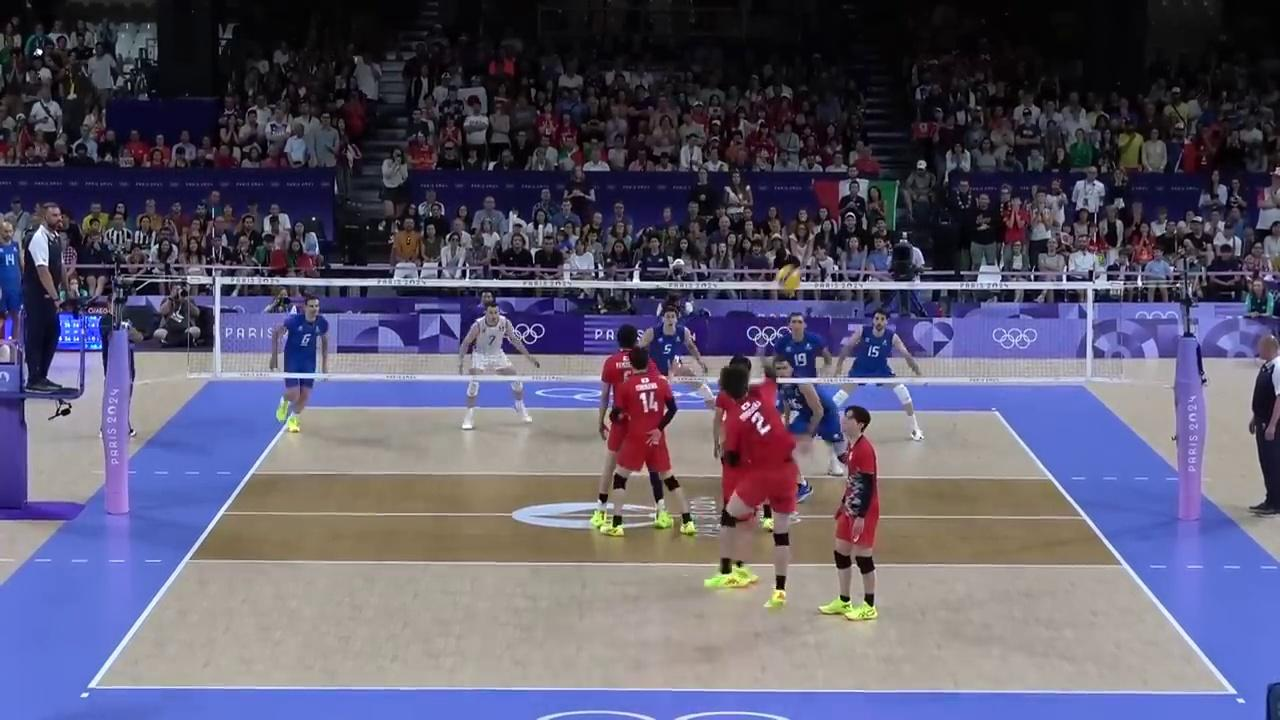ball: (774, 266, 803, 292)
